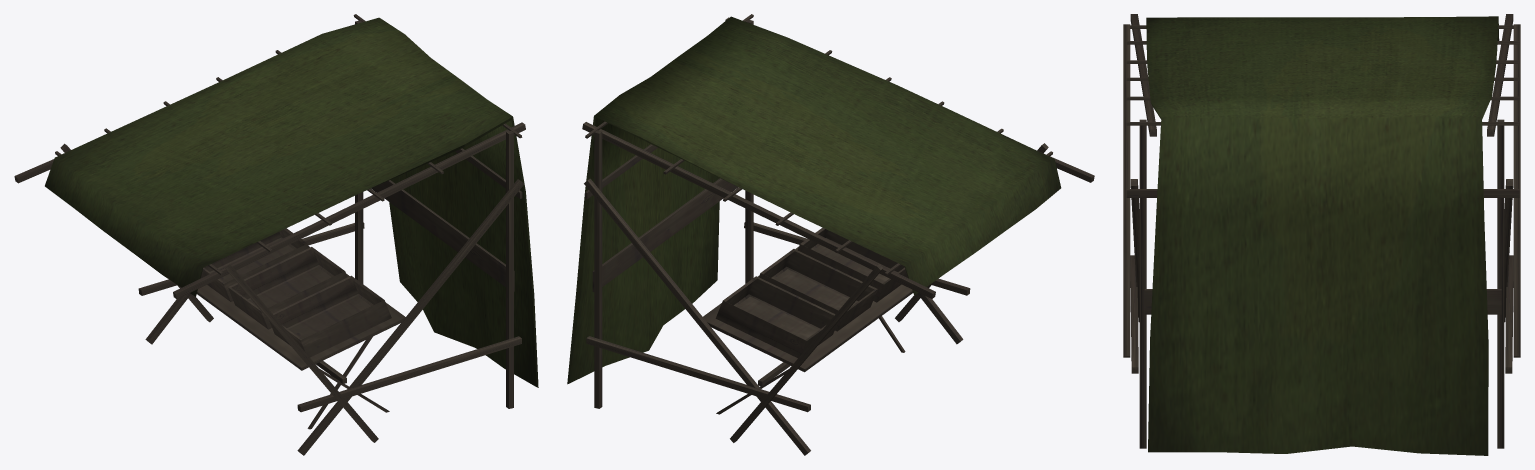
The model's file is Markets_02.fbx.
3 views of the same model, side by side, from view 1: azimuth 30°, elevation 25°; view 2: azimuth 150°, elevation 25°; view 3: azimuth 270°, elevation 25° (orthographic). The views are drawn at different scales.
Visible parts, largest first — view 1: polySurface14; view 2: polySurface14; view 3: polySurface14.
Boxes of the visible parts, x1,y1,x2,y2 form: polySurface14: (14, 14, 538, 455); polySurface14: (567, 14, 1094, 455); polySurface14: (1123, 14, 1520, 455).
Size of the model in its own units: 10.01 by 7.24 by 7.74.
